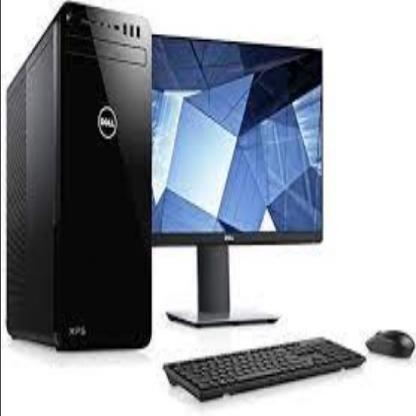DESKTOP: (4, 8, 416, 407)
